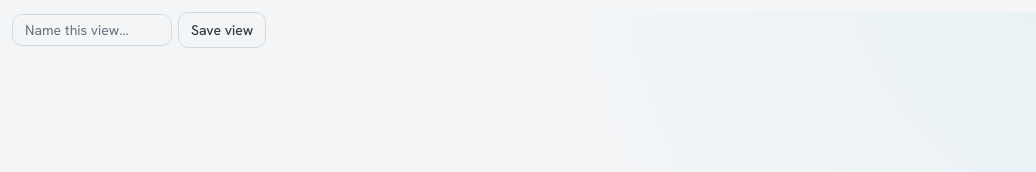
Test: SavedFilterBar (#231) › saves the typed (trimmed) name and clears the input
Type "  Low stock  " into the field with placeholder "Name this view…".
click(92, 30); type("  Low stock  ")  # box left=12, top=14, right=172, bottom=46
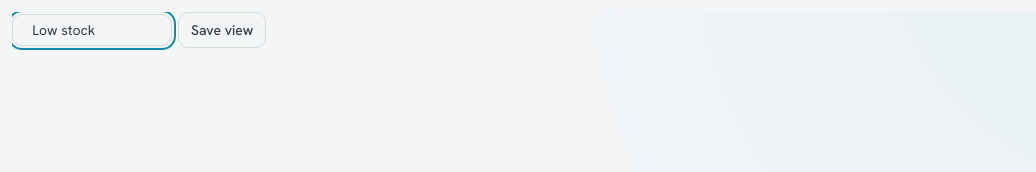
Click the button "Save view".
click(222, 30)  # box left=178, top=12, right=266, bottom=48
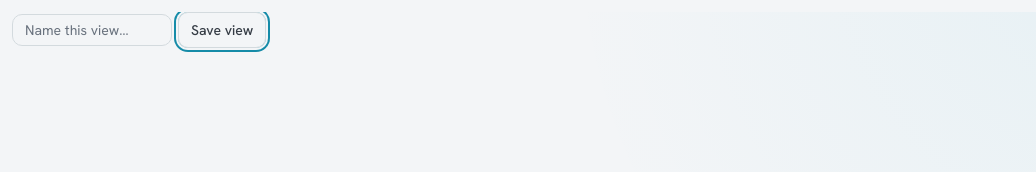
Expected: the field with placeholder "Name this view…" is empty, left=12, top=14, right=172, bottom=46
